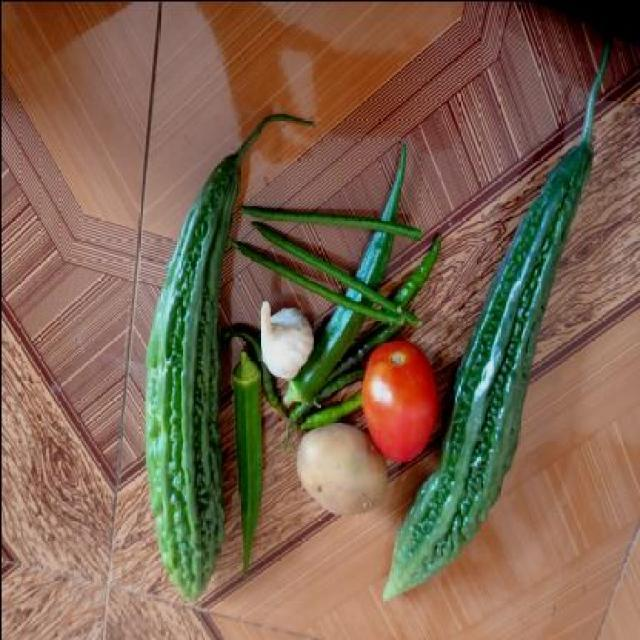Bitter melon: (434, 135, 596, 560), (140, 148, 226, 606)
Garlic: (254, 298, 312, 378)
Lady finger: (229, 351, 260, 571)
Potato: (290, 422, 388, 516)
Tomato: (363, 340, 434, 460)
